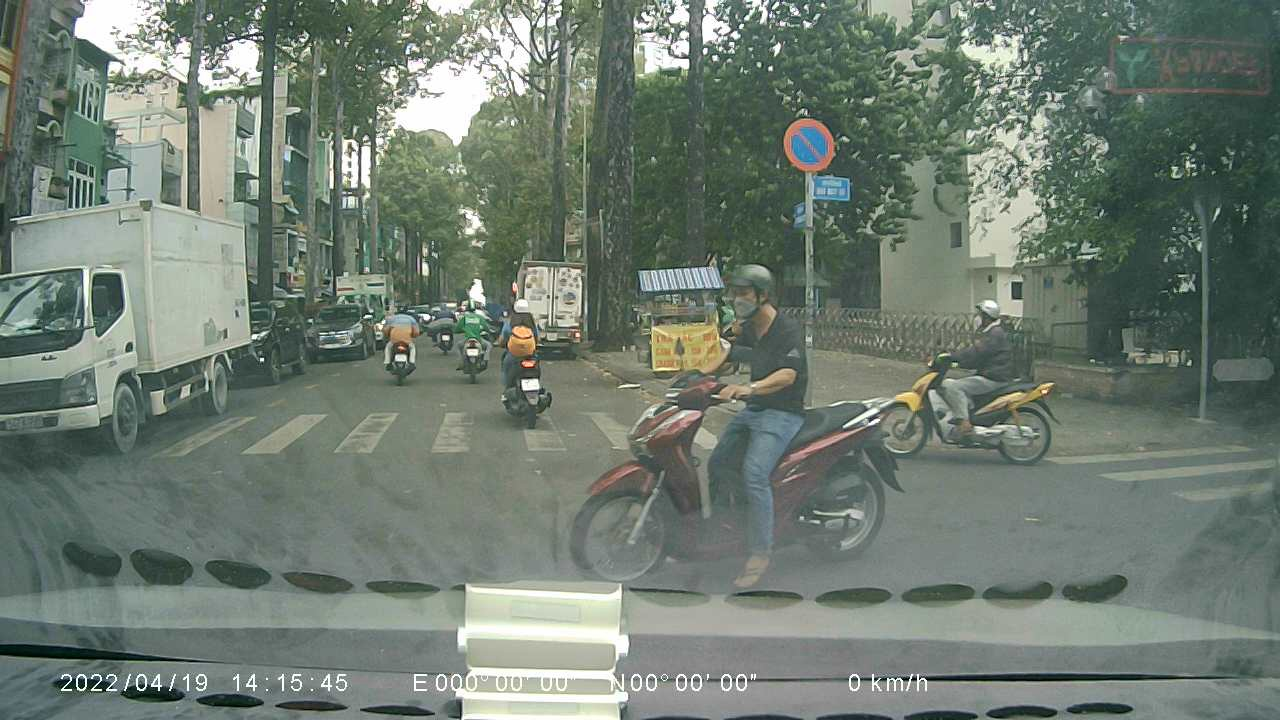Cam do xe: (780, 114, 833, 173)
